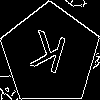K: (25, 30, 69, 83)
